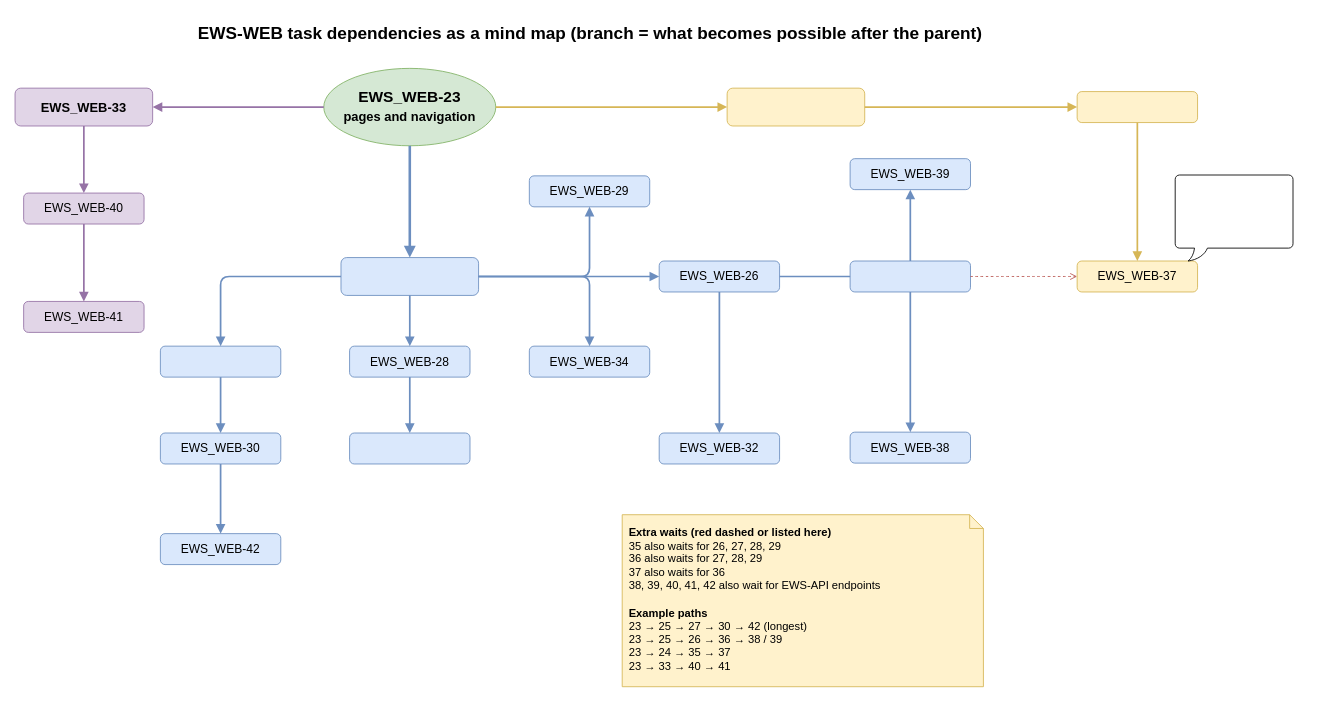
Image size: 1319x702. Some labels were removed from this diagram. Each missing label, with the box of its shape:
EWS_WEB-24: (726, 87, 865, 126)
EWS_WEB-25: (340, 257, 479, 295)
EWS_WEB-27: (160, 345, 281, 377)
EWS_WEB-31: (349, 432, 470, 464)
EWS_WEB-35: (1076, 91, 1198, 123)
EWS_WEB-36: (849, 260, 971, 292)
EWS_WEB-37 is waiting for EWS_WEB-36: (1174, 174, 1293, 261)
